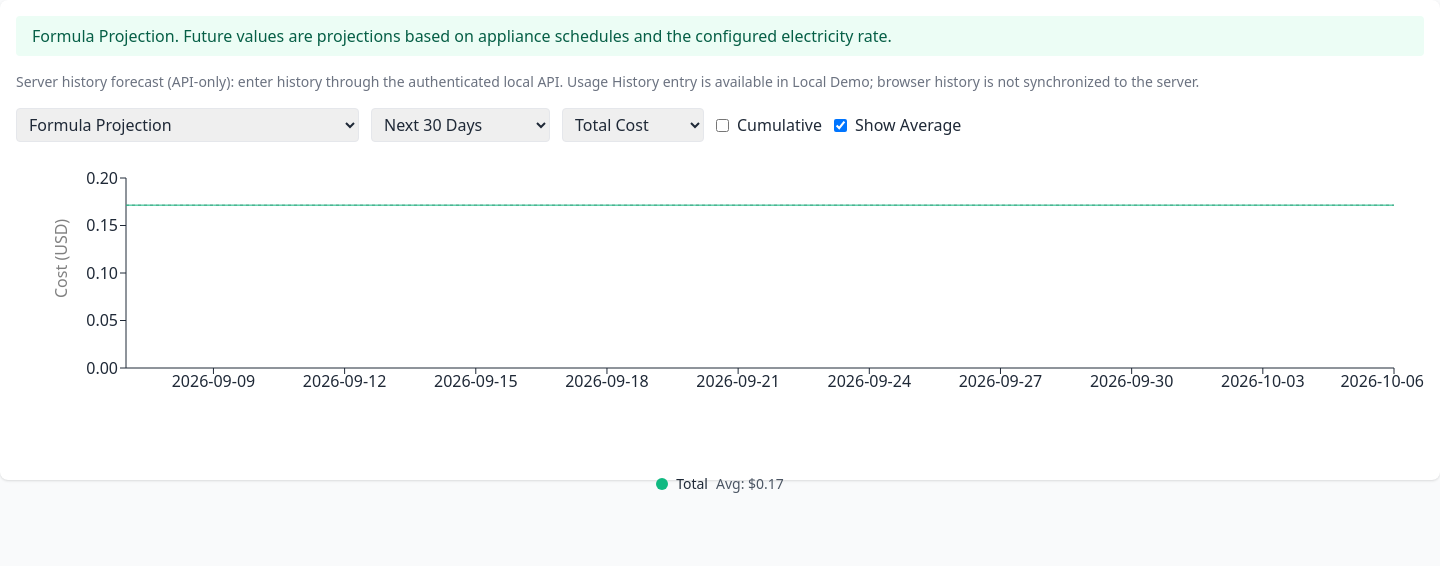
Test: EnergyUsageChart source behavior › falls back visibly without mixing data when history is insufficient
Select "History-Based Forecast (API-only history)" in the dropdown named "Projection or forecast source" at (188, 125), box [16,108,359,142]
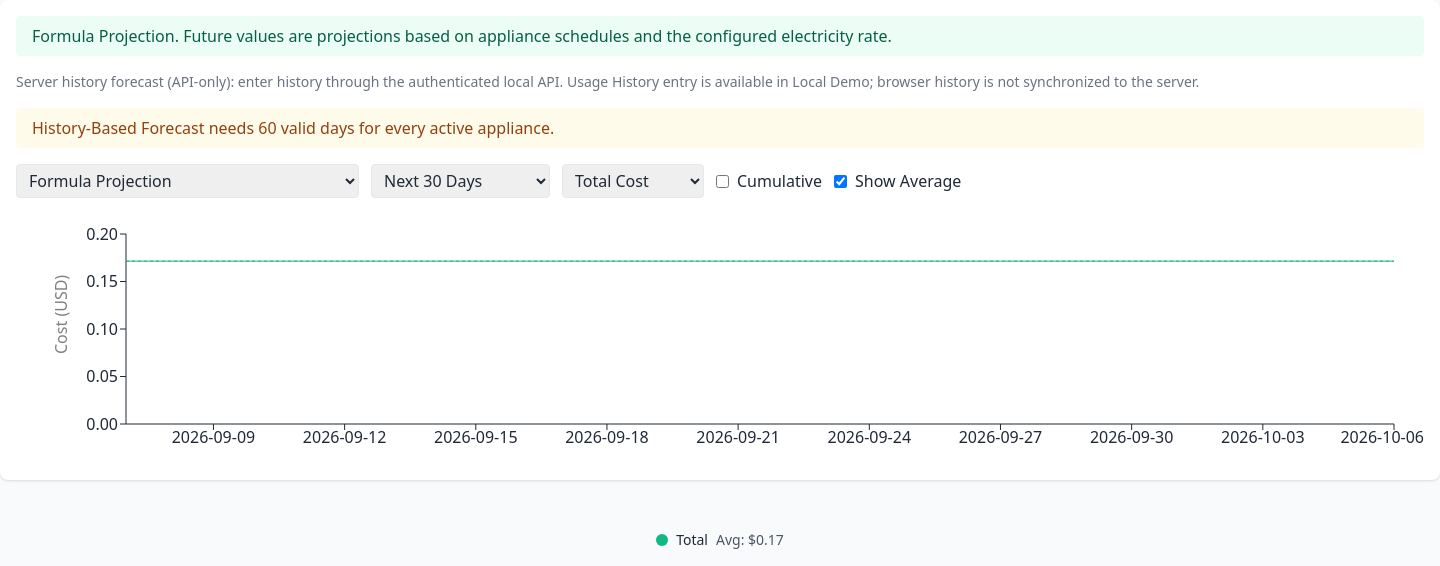
Check: the text "Formula Projection" is shown, box [32,25,175,47]
Check: the message shows "needs 60 valid days", box [32,117,554,139]
